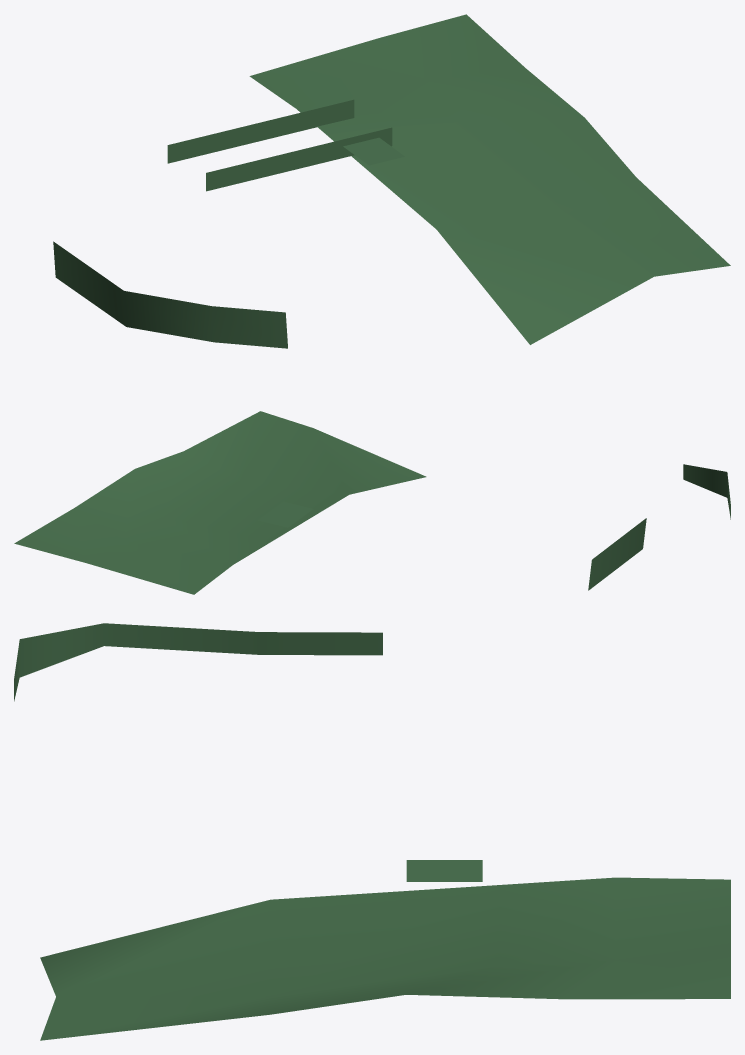
The model's file is InvisibleWalls.glb.
3 renders of one model, top to bottom at view 1: azimuth 30°, elevation 25°; view 2: azimuth 150°, elevation 25°; view 3: azimuth 270°, elevation 25°, orthographic. The views are drawn at different scales.
Parts seen in each view (by area): view 1: pix.png__; view 2: pix.png__; view 3: pix.png__.
Boxes of the visible parts, x1,y1,x2,y2 form: pix.png__: (53, 14, 730, 348); pix.png__: (14, 411, 730, 594); pix.png__: (14, 623, 730, 1040).
Bounding box in the file's own units: 343 × 46.43 × 284.
Materials: 2 (2 with a texture image).
